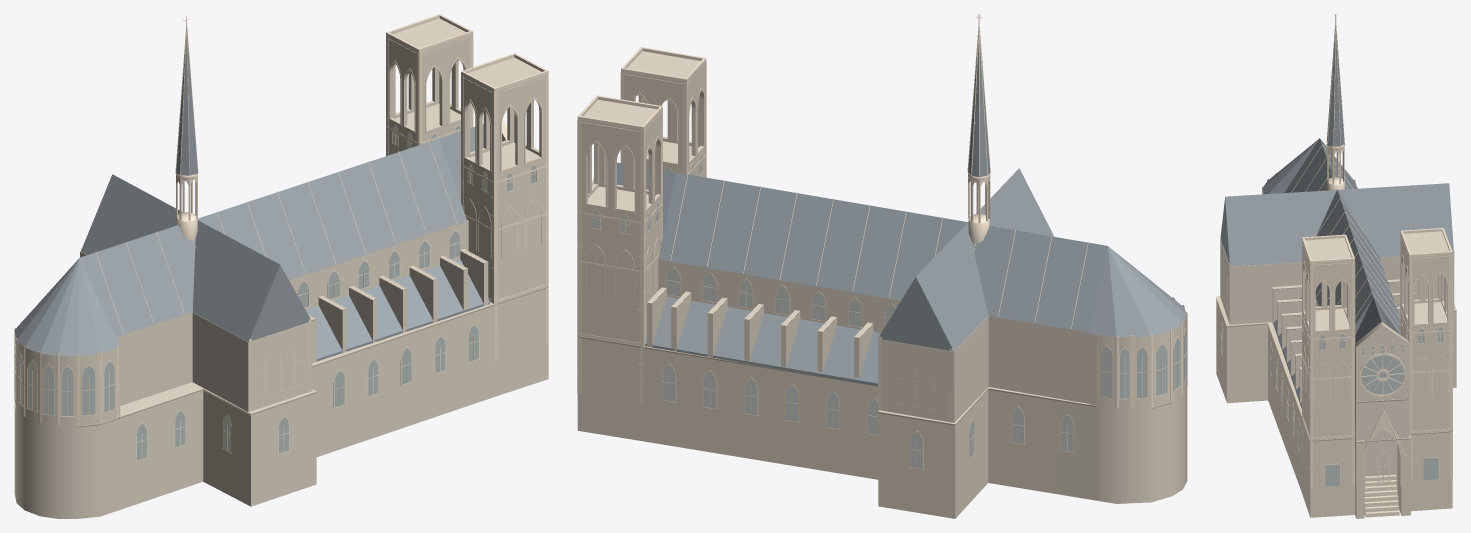
File: detail.glb
3 views of the same model, side by side, from view 1: azimuth 30°, elevation 25°; view 2: azimuth 150°, elevation 25°; view 3: azimuth 270°, elevation 25° (orthographic). The views are drawn at different scales.
Parts seen in each view (by area): view 1: stone, roof, trim, window; view 2: stone, roof, trim, window; view 3: stone, roof, trim, window.
Boxes of the visible parts, <box> form: stone: <box>14,18,548,518</box>; roof: <box>14,38,489,361</box>; trim: <box>14,14,548,461</box>; window: <box>14,125,536,460</box>; stone: <box>577,51,1187,518</box>; roof: <box>617,40,1186,385</box>; trim: <box>577,14,1187,469</box>; window: <box>592,155,1186,469</box>; stone: <box>1216,146,1456,518</box>; roof: <box>1220,40,1453,408</box>; trim: <box>1216,14,1456,517</box>; window: <box>1220,303,1443,486</box>.
Bounding box in the file's own units: 95.57 × 75 × 45.08.
